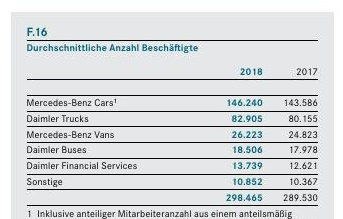table: (0, 0, 343, 219)
